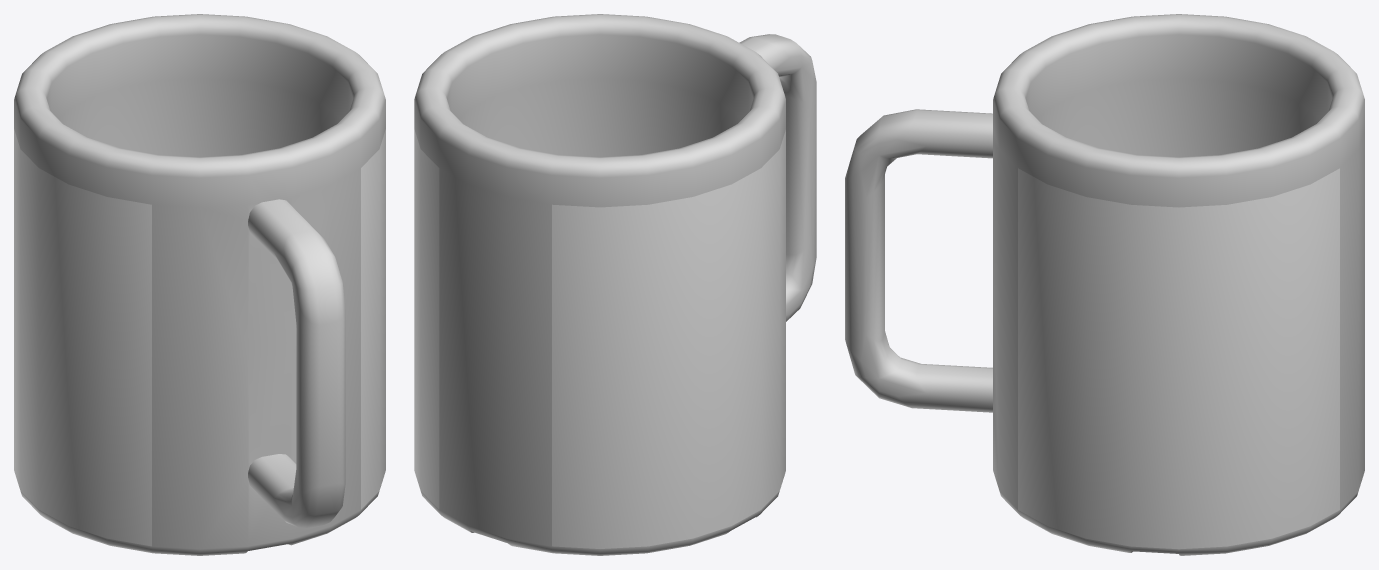
File: mug_s.fbx
The picture shows the model from 3 angles, left to right: view 1: azimuth 30°, elevation 25°; view 2: azimuth 150°, elevation 25°; view 3: azimuth 270°, elevation 25°; orthographic projection.
Parts seen in each view (by area): view 1: MUG_S; view 2: MUG_S; view 3: MUG_S.
Part boxes in pixels (x1,y1,x2,y2): MUG_S: [14, 14, 385, 555]; MUG_S: [414, 14, 816, 555]; MUG_S: [845, 14, 1364, 555].
Bounding box in the file's own units: 8.6 × 10.03 × 12.03.
Materials: 2 (1 with a texture image).
